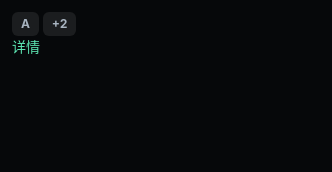
Test: shared form and navigation primitives › keeps overflow tags discoverable and clickable text keyboard accessible
Later steps or results of the test are not shown.
Expected: the text "B" is not shown
Click the button "+2": (60, 24) [43,12,76,36]
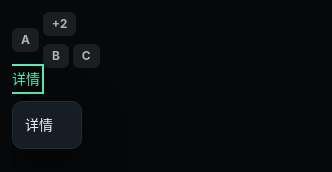
Result: the text "B" is shown at [43,44,69,68]
